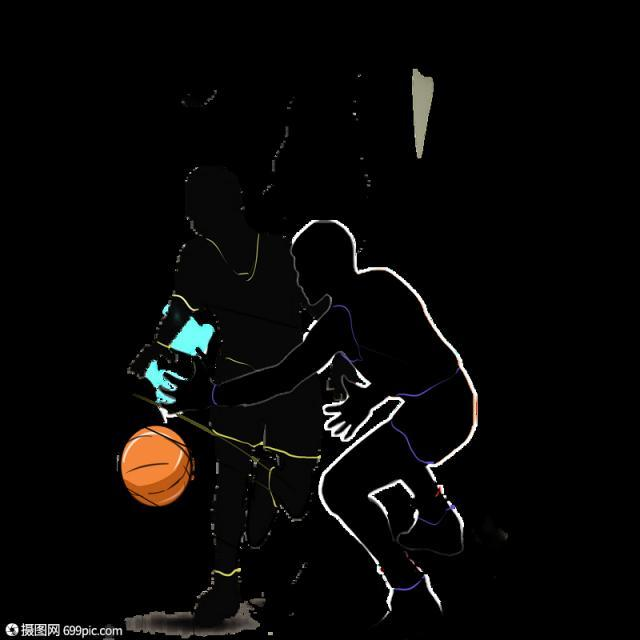rim: (120, 419, 194, 511)
